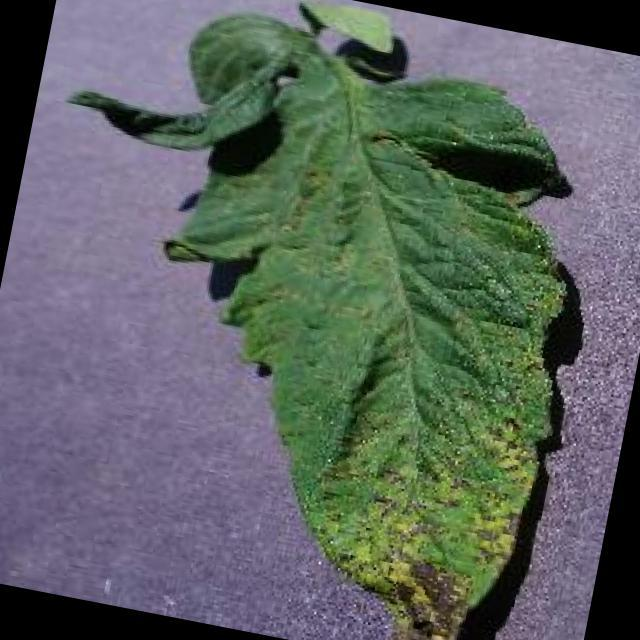Tomato Septoria spot leaf: (92, 29, 617, 640)
